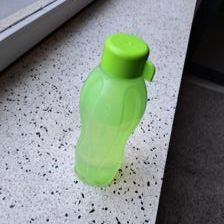bottle: (71, 32, 158, 186)
